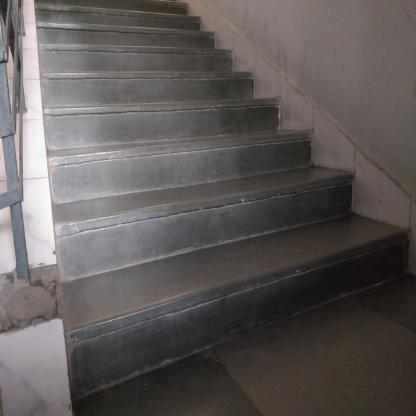stairs: (78, 88, 247, 412)
